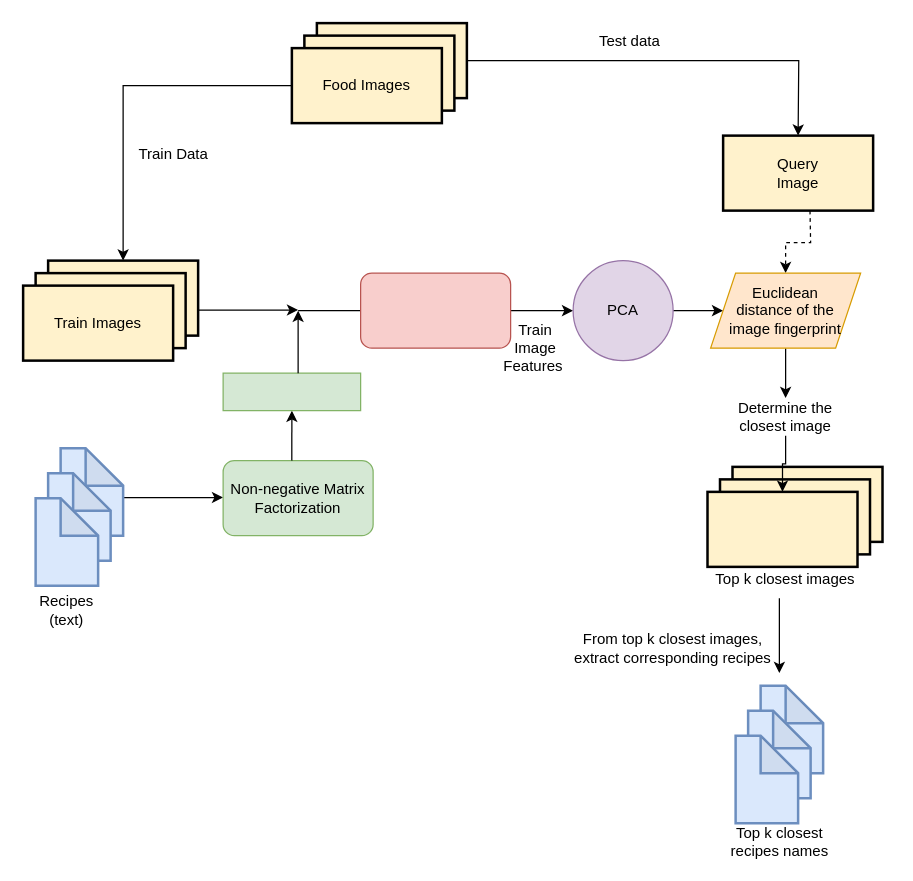
The diagram is 913 pixels wide and 881 high, and some of its shapes have lost their labels. Each missing label, with the centre of its shape:
Food Categories (i.e. labels): pixel 291 391
VGG/ResNet Network: pixel 435 310
